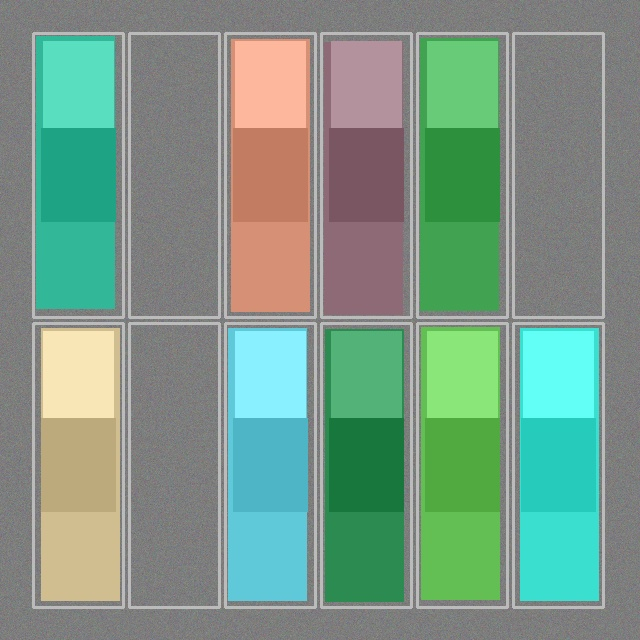space-empty: (131, 35, 217, 315), (515, 35, 601, 315), (131, 325, 217, 605)
space-occupied: (35, 35, 121, 315), (227, 35, 313, 315), (323, 35, 409, 315), (419, 35, 505, 315), (35, 325, 121, 605), (227, 325, 313, 605), (323, 325, 409, 605), (419, 325, 505, 605), (515, 325, 601, 605)
